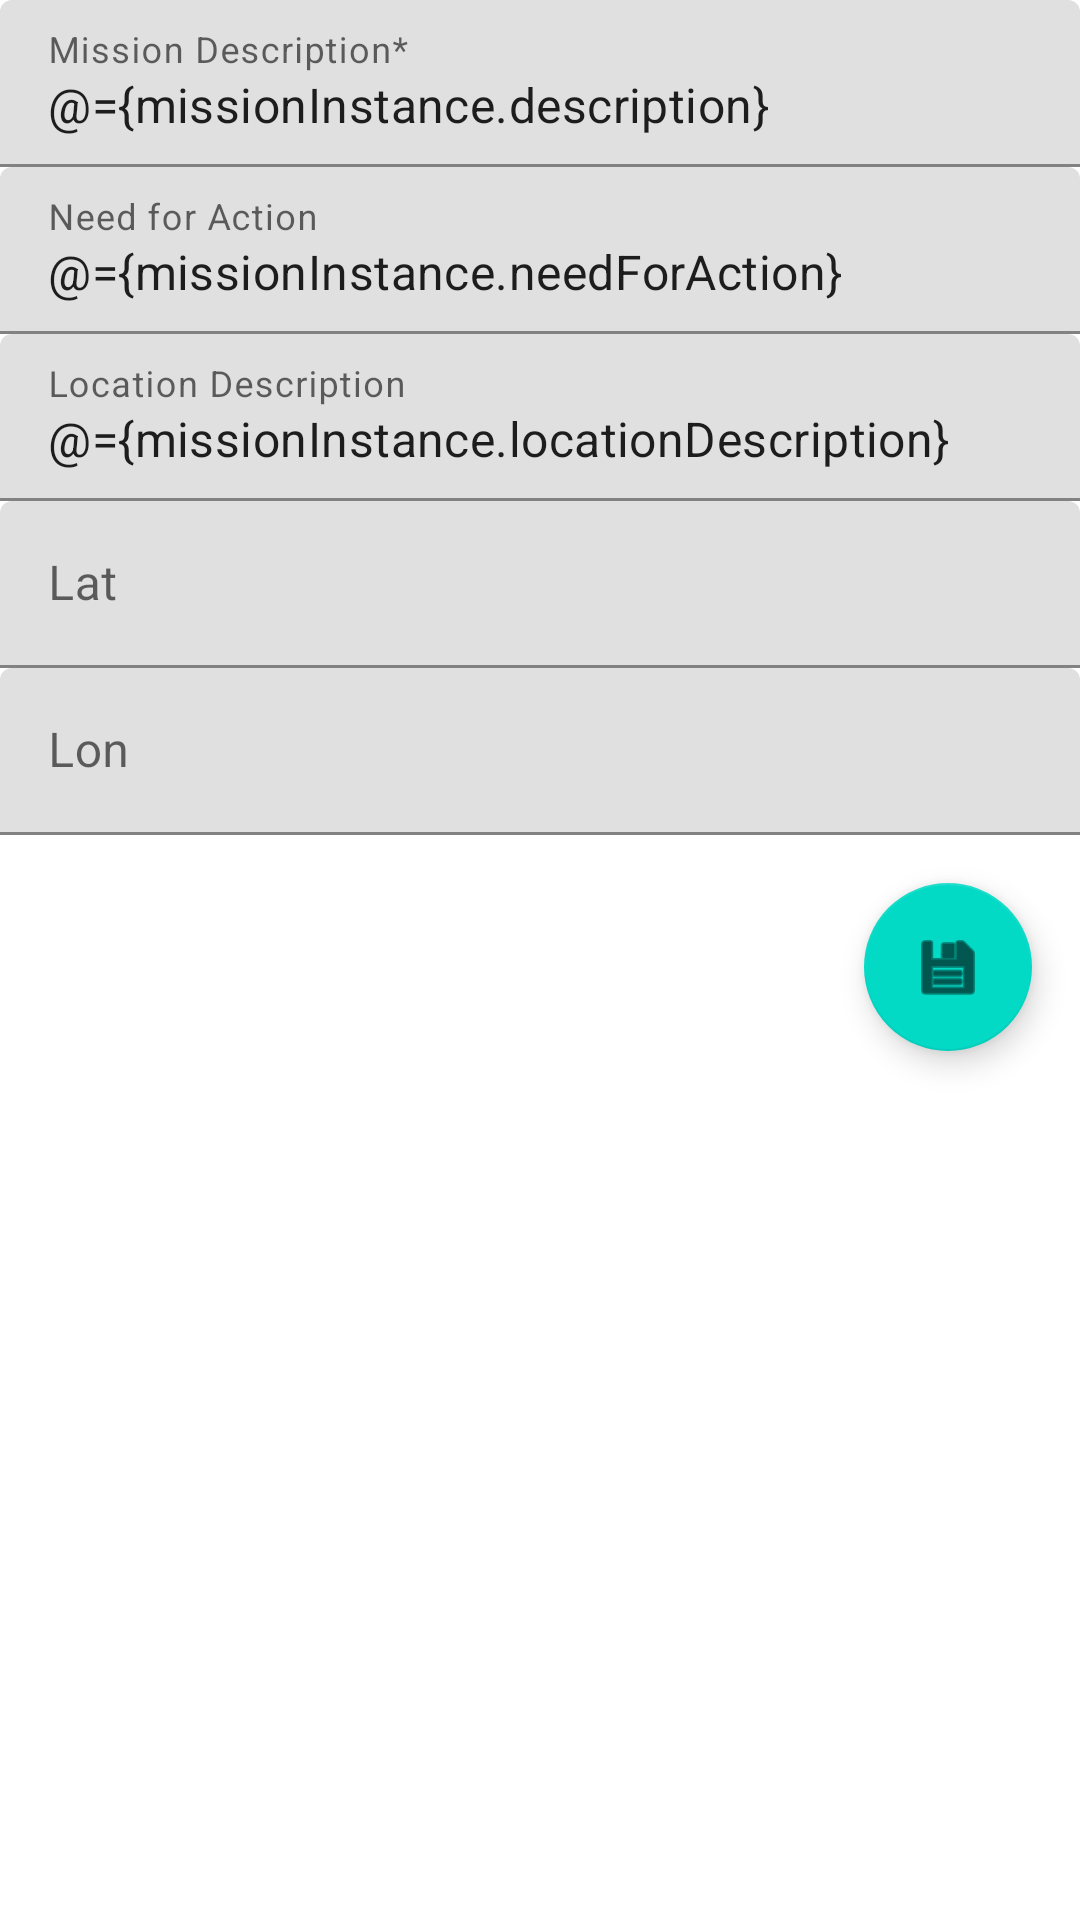

Locate icon controls on the screen. Image size 1080×1920, boxes as (x1, y1, x2, y2).
save: (864, 883, 1032, 1051)
